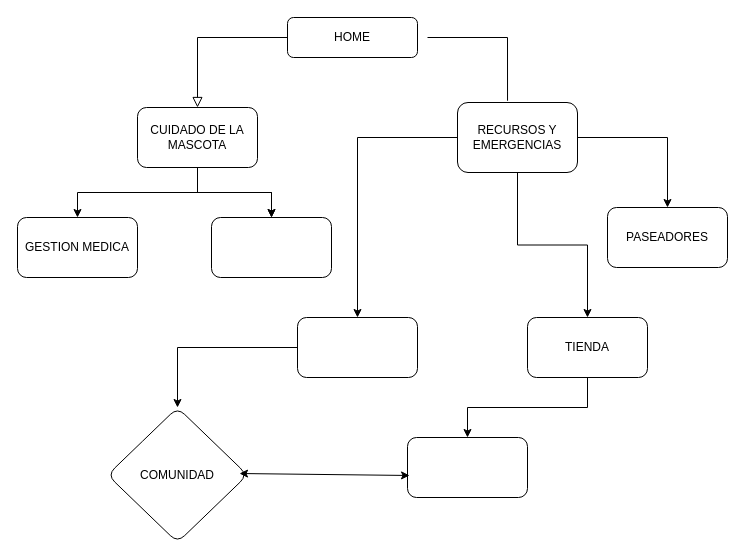
This 745x560 diagram has some shape labels left out. The centre of each missing label's shape, as x and y in pixels:
"EMERGENCIAS" goes at (x=357, y=347).
"PERFIL DEL USUARIO" goes at (x=467, y=467).
"SERVICIOS VETERINARIOS" goes at (x=271, y=247).
